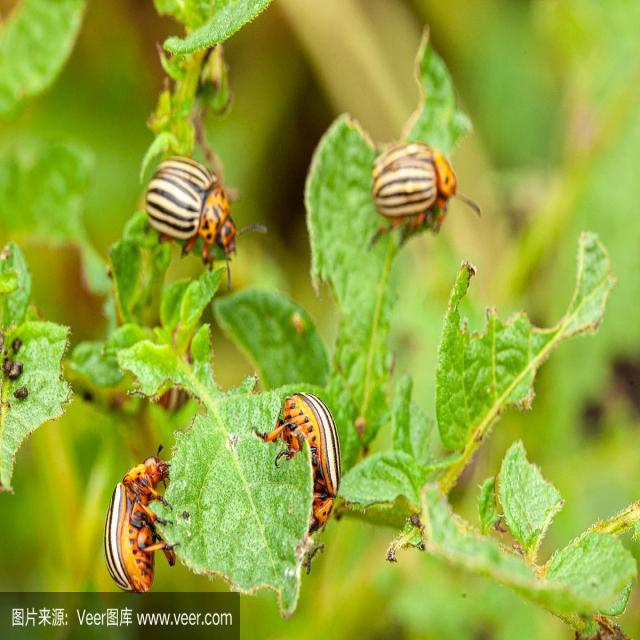ShuCaiHuaBanChong-Grown-: (141, 151, 237, 275), (279, 380, 351, 539), (108, 442, 176, 581), (364, 136, 469, 220)
